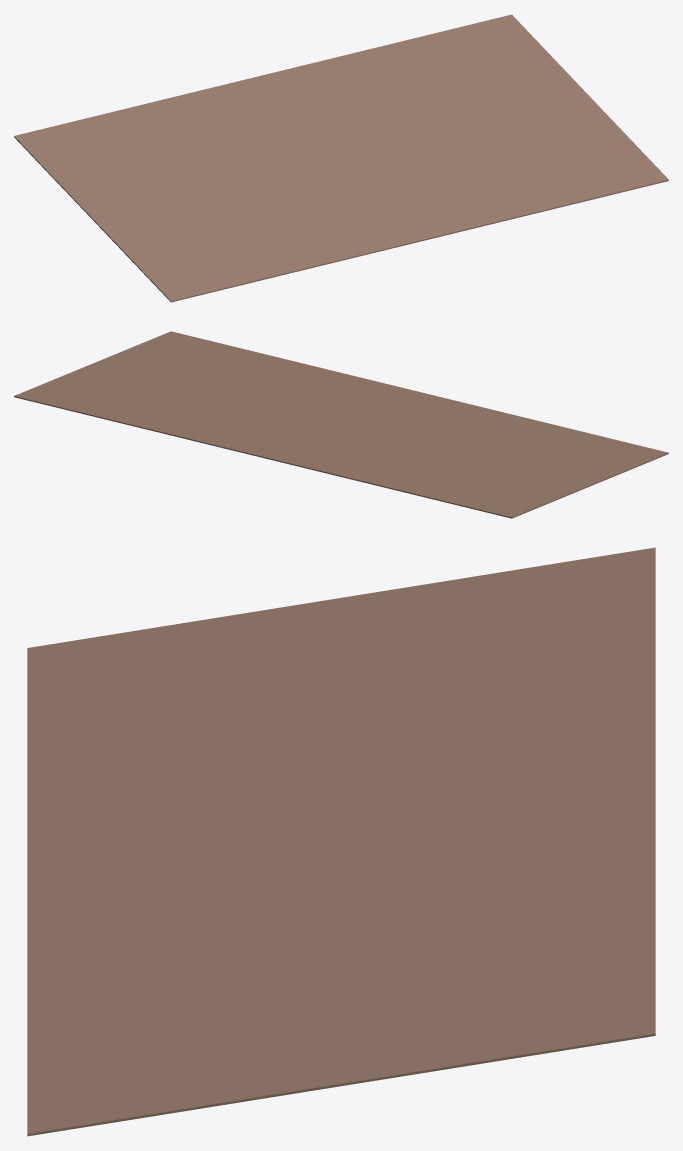
The model's file is awingVar3Defoult2.gltf.
3 renders of one model, top to bottom at view 1: azimuth 30°, elevation 25°; view 2: azimuth 150°, elevation 25°; view 3: azimuth 270°, elevation 25°, orthographic. The views are drawn at different scales.
Parts seen in each view (by area): view 1: awingVar3Defoult2; view 2: awingVar3Defoult2; view 3: awingVar3Defoult2.
Boxes of the visible parts, x1,y1,x2,y2 form: awingVar3Defoult2: (14,14,668,302); awingVar3Defoult2: (14,331,668,518); awingVar3Defoult2: (27,547,655,1136).
Size of the model in its own units: 4.2 by 0.4154 by 2.3.
